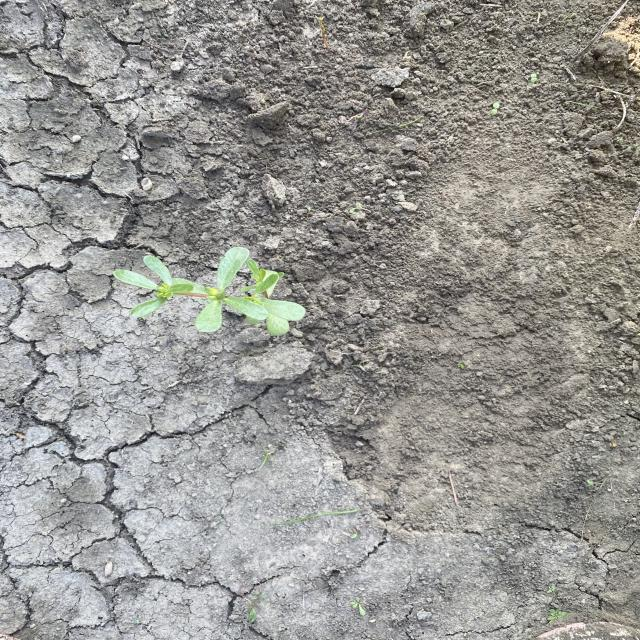Purslane: (111, 245, 308, 338)
